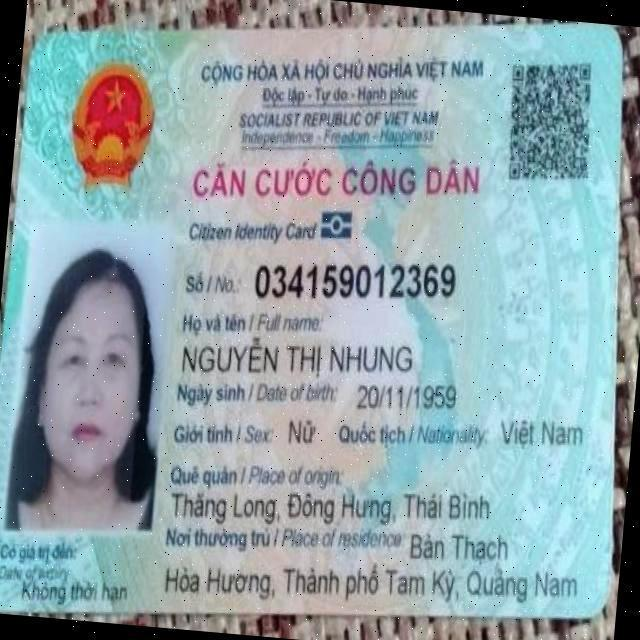current_place: (154, 556, 587, 606), (402, 523, 517, 563)
dob: (354, 373, 463, 415)
expire_date: (18, 575, 133, 609)
gender: (285, 413, 319, 450)
id: (249, 251, 460, 311)
name: (178, 333, 426, 380)
nationality: (498, 406, 587, 451)
origin_place: (167, 482, 501, 528)
